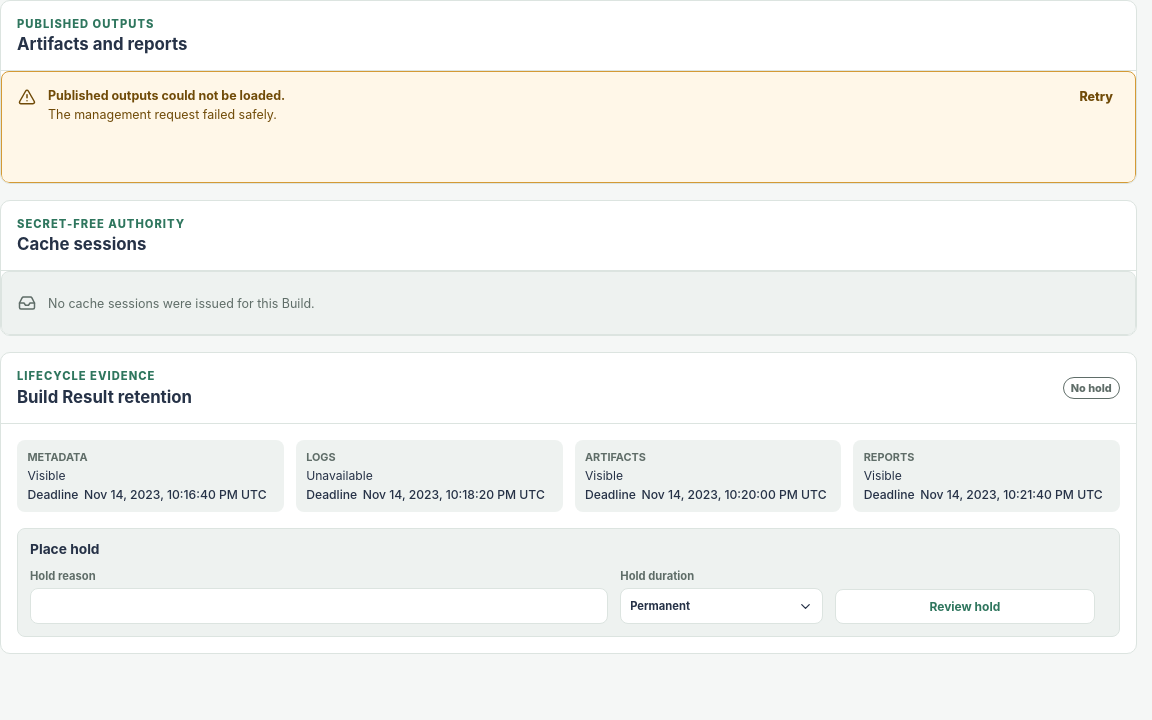
Test: Build Result diagnostics › offers a bounded retry after an initial diagnostic failure
Click the button "Retry": click(1096, 97) [1074, 88, 1119, 105]
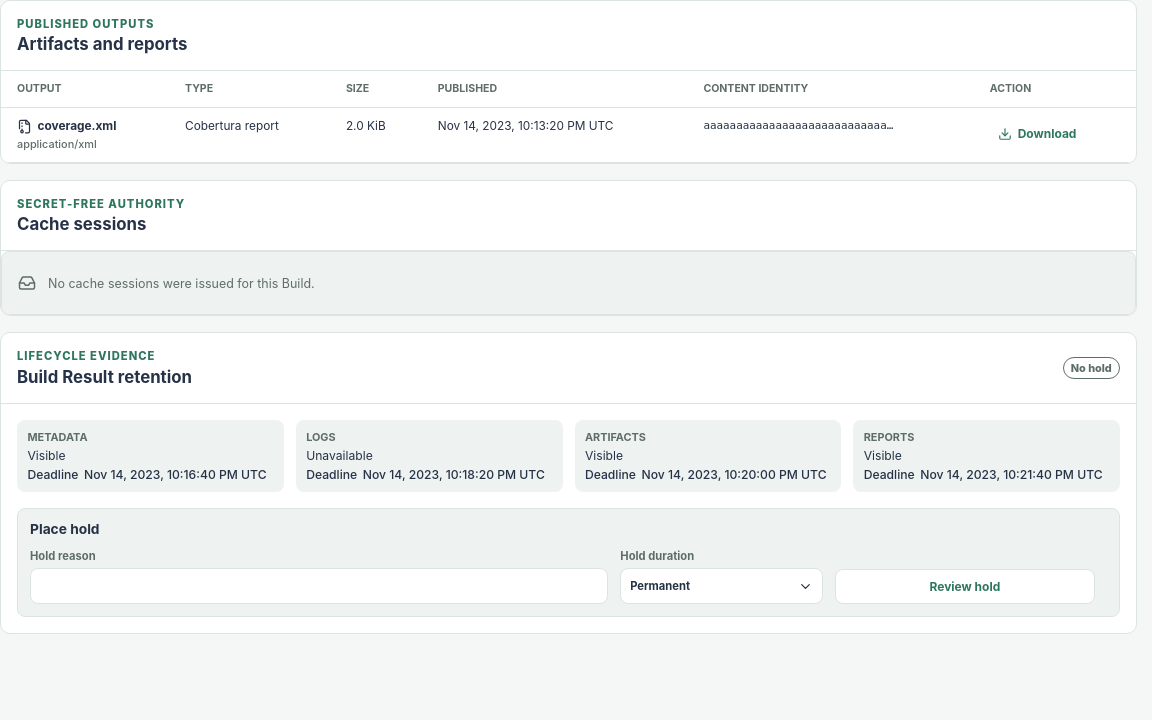
Now the text "coverage.xml" is shown, box [17, 119, 116, 134]
